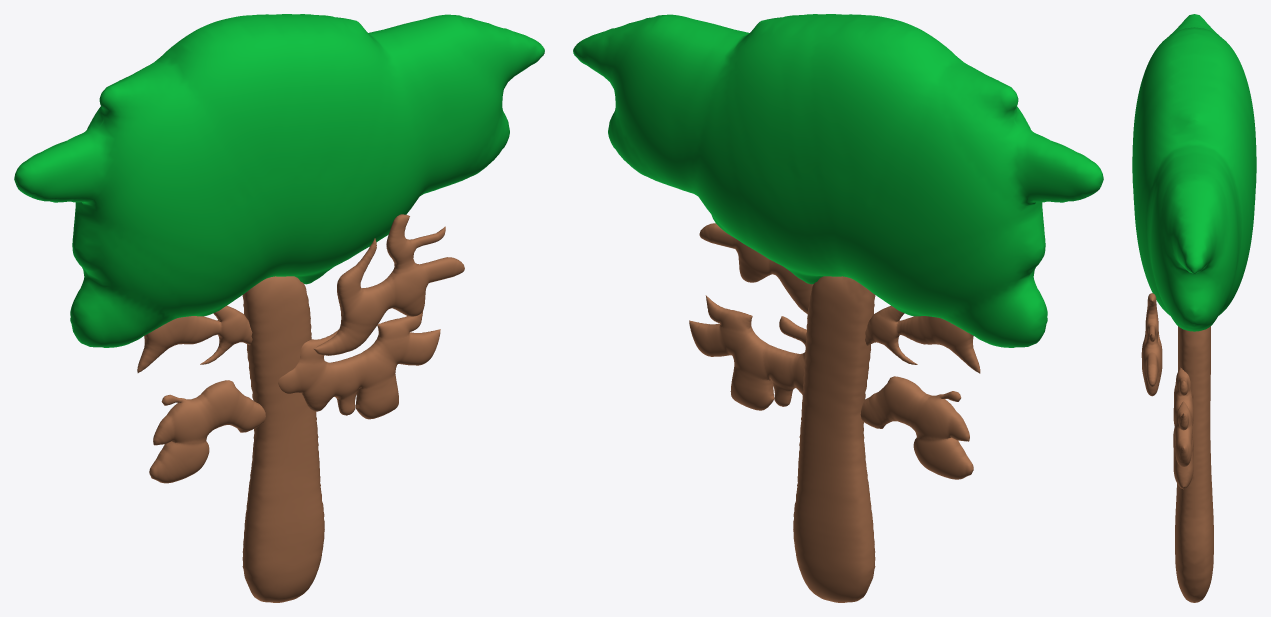
Rendered from treesie.fbx.
The picture shows the model from 3 angles, left to right: view 1: azimuth 30°, elevation 25°; view 2: azimuth 150°, elevation 25°; view 3: azimuth 270°, elevation 25°; orthographic projection. The views are drawn at different scales.
Parts seen in each view (by area): view 1: root (×6); view 2: root (×6); view 3: root (×4).
Part boxes in pixels (x1,y1,x2,y2): root (×6): (14,14,544,602); root (×6): (573,14,1103,602); root (×4): (1132,14,1256,602).
Bounding box in the file's own units: 0.5931 × 0.6306 × 0.132.
6 materials, 6 textured.
